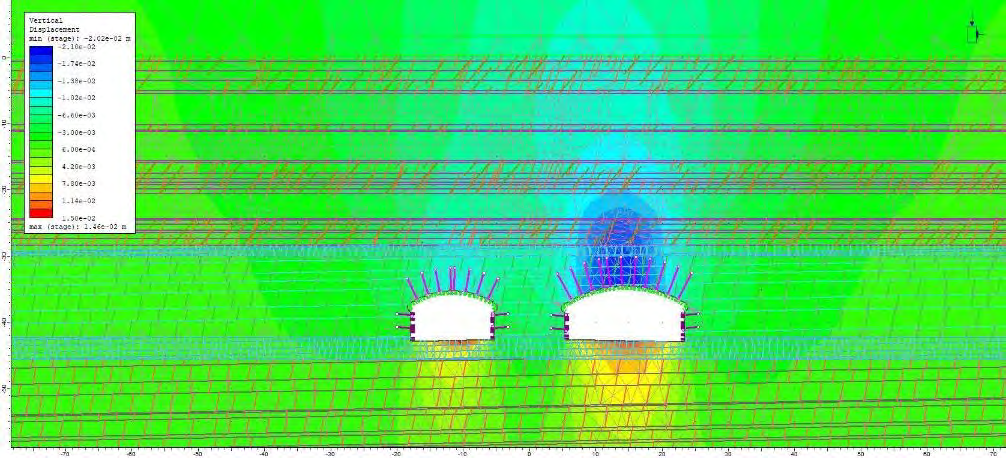crown: (609, 273, 647, 285), (442, 277, 464, 292)
label: (24, 13, 135, 232)
tunnel-opening: (564, 285, 690, 342), (408, 291, 497, 340)
